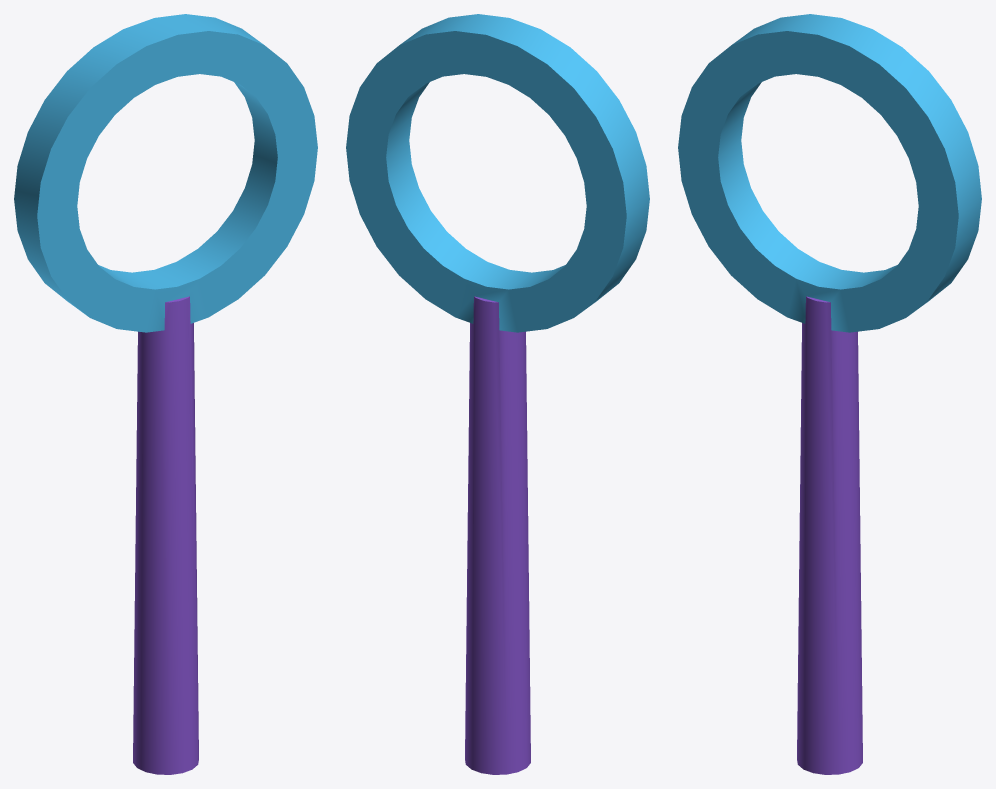
Rendered from bubble_wand.glb.
3 views of the same model, side by side, from view 1: azimuth 30°, elevation 25°; view 2: azimuth 150°, elevation 25°; view 3: azimuth 330°, elevation 25° (orthographic).
Visible parts, largest first — view 1: bubble_wand; view 2: bubble_wand; view 3: bubble_wand.
Part boxes in pixels (x1,y1,x2,y2): bubble_wand: (14,14,317,774); bubble_wand: (346,14,649,774); bubble_wand: (678,14,981,774).
Size of the model in its own units: 0.036 by 0.09 by 0.00741.
